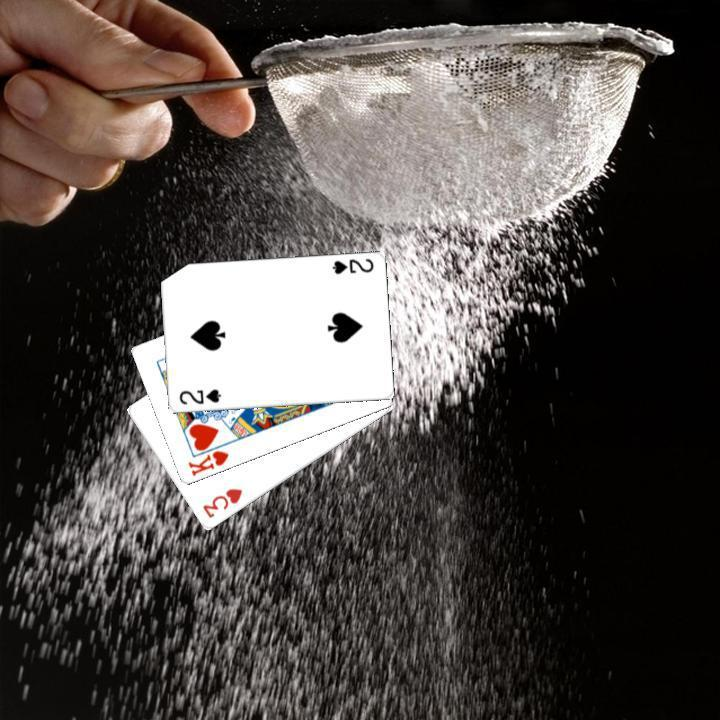2: (174, 385, 223, 407), (327, 254, 375, 276)
3: (198, 484, 244, 520)
K: (183, 446, 231, 479)
